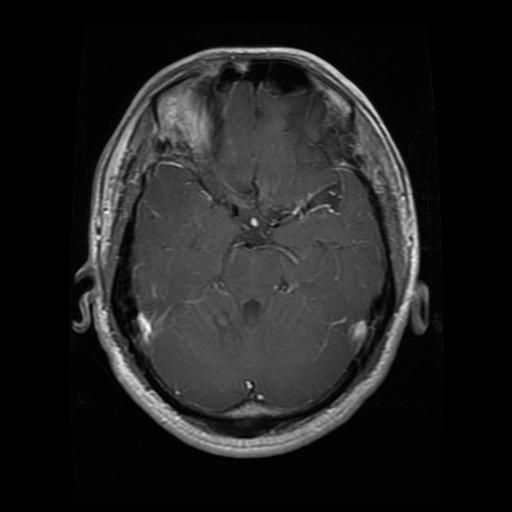Gliomia_tumour: (285, 89, 352, 167)
